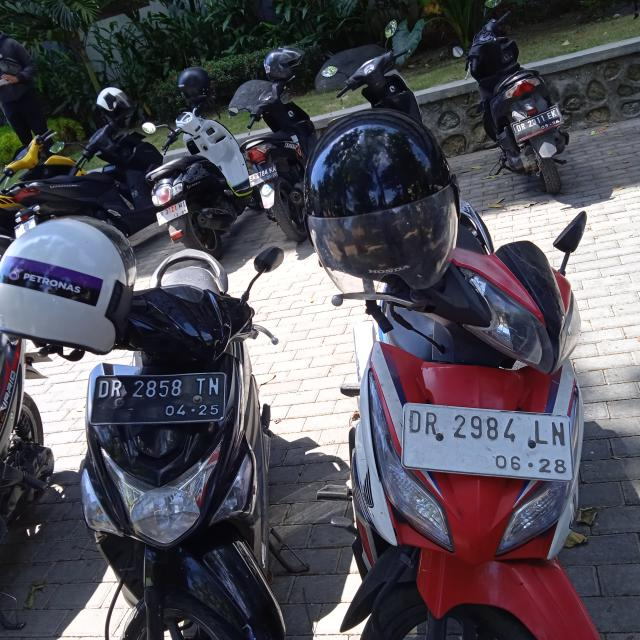plate: (400, 400, 576, 484), (88, 371, 229, 427), (512, 105, 565, 145), (156, 199, 189, 226), (249, 164, 278, 189)
